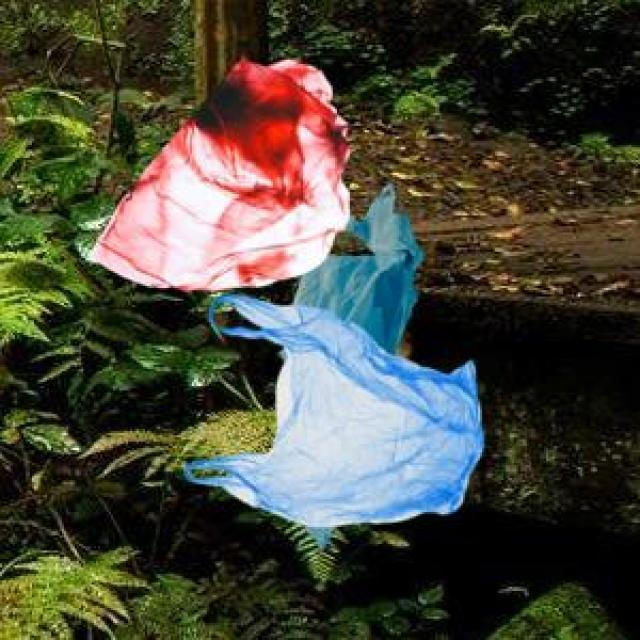waste: (91, 60, 484, 534)
